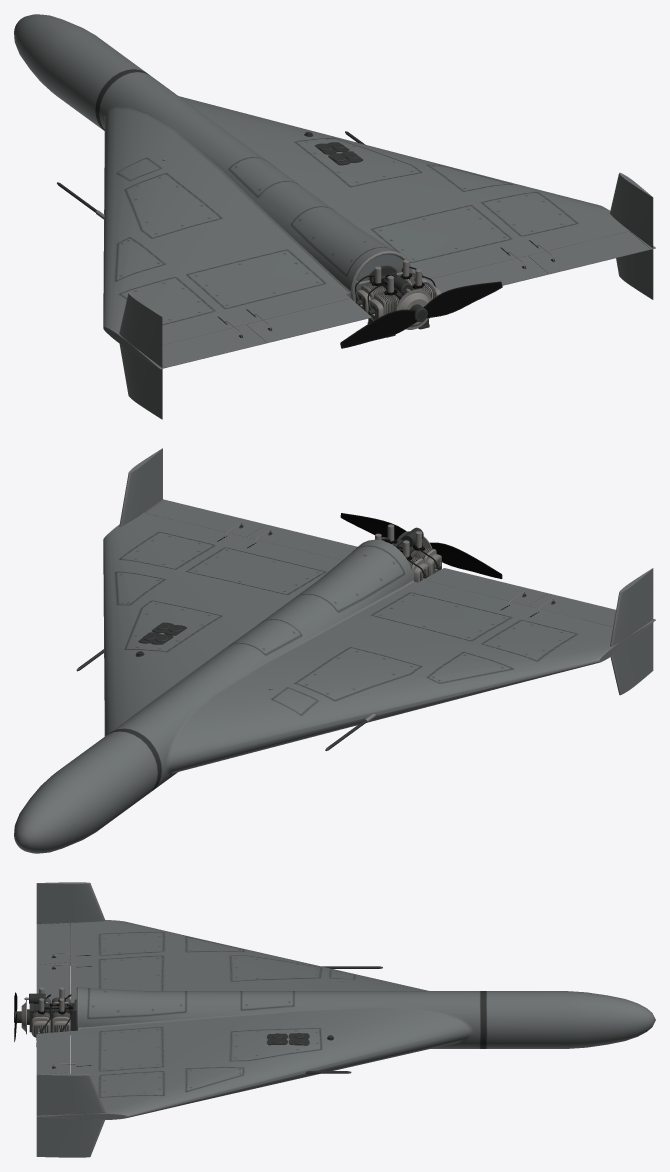
Rendered from geranium-2.glb.
3 renders of one model, top to bottom at view 1: azimuth 30°, elevation 25°; view 2: azimuth 150°, elevation 25°; view 3: azimuth 270°, elevation 25°, orthographic. The views are drawn at different scales.
Parts seen in each view (by area): view 1: Geranium2; view 2: Geranium2; view 3: Geranium2.
Boxes of the visible parts, left/top/right/bottom form: Geranium2: left=14, top=14, right=655, bottom=419; Geranium2: left=14, top=448, right=655, bottom=853; Geranium2: left=14, top=882, right=655, bottom=1157.
Bounding box in the file's own units: 2.5 × 0.4937 × 3.5.
Materials: 1 (1 with a texture image).
